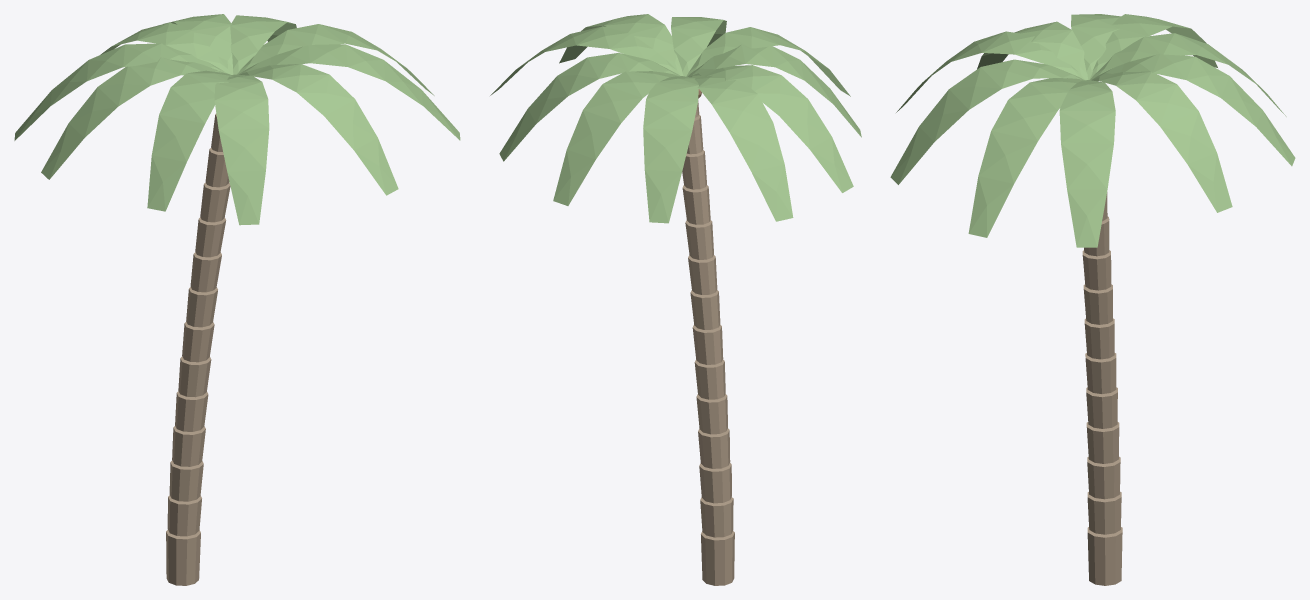
Rendered from palm.glb.
3 renders of one model, left to right at view 1: azimuth 30°, elevation 25°; view 2: azimuth 150°, elevation 25°; view 3: azimuth 270°, elevation 25°, orthographic. The views are drawn at different scales.
Parts seen in each view (by area): view 1: palm_palm, palm_bark; view 2: palm_palm, palm_bark; view 3: palm_palm, palm_bark.
Part boxes in pixels (x1,y1,x2,y2): palm_palm: (14, 14, 460, 225); palm_bark: (166, 113, 230, 585); palm_palm: (490, 14, 861, 223); palm_bark: (682, 100, 734, 585); palm_palm: (890, 14, 1295, 247); palm_bark: (1082, 192, 1122, 585).
Bounding box in the file's own units: 5.29 × 7.02 × 4.74.
